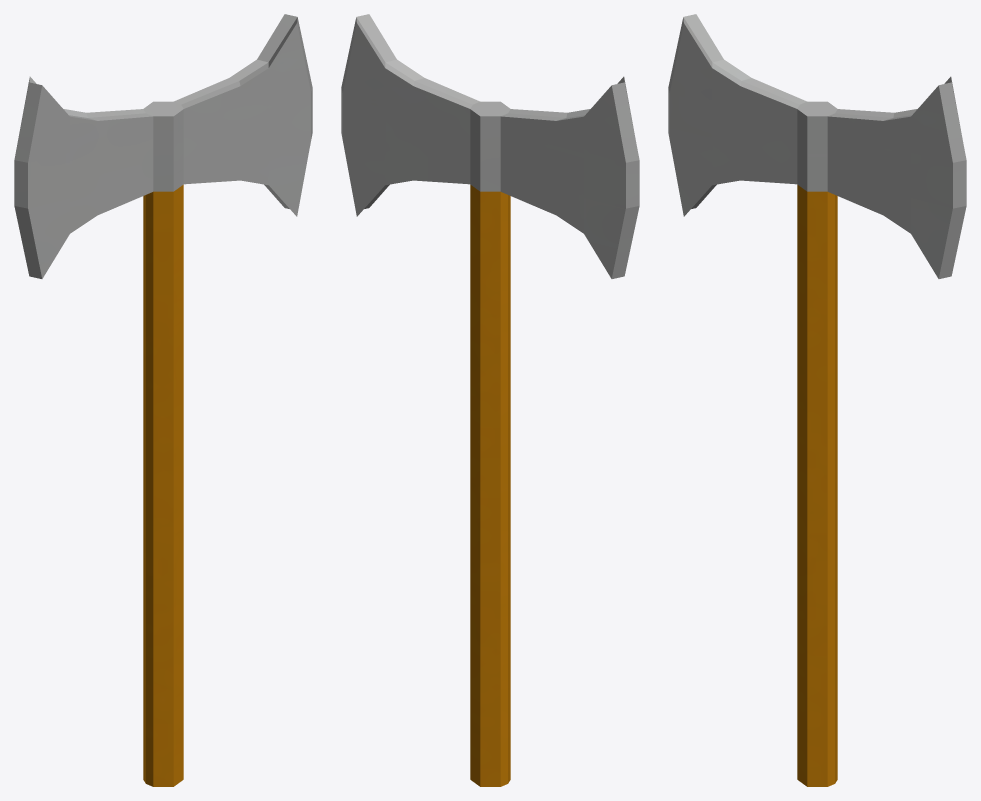
The model's file is Battle_Axe_1.fbx.
The picture shows the model from 3 angles, left to right: view 1: azimuth 30°, elevation 25°; view 2: azimuth 150°, elevation 25°; view 3: azimuth 330°, elevation 25°; orthographic projection.
Visible parts, largest first — view 1: Battle Axe 1; view 2: Battle Axe 1; view 3: Battle Axe 1.
Boxes of the visible parts, left/top/right/bottom form: Battle Axe 1: left=14, top=14, right=312, bottom=786; Battle Axe 1: left=341, top=14, right=639, bottom=786; Battle Axe 1: left=668, top=14, right=966, bottom=786.
Size of the model in its own units: 30.03 by 70.23 by 3.54.
